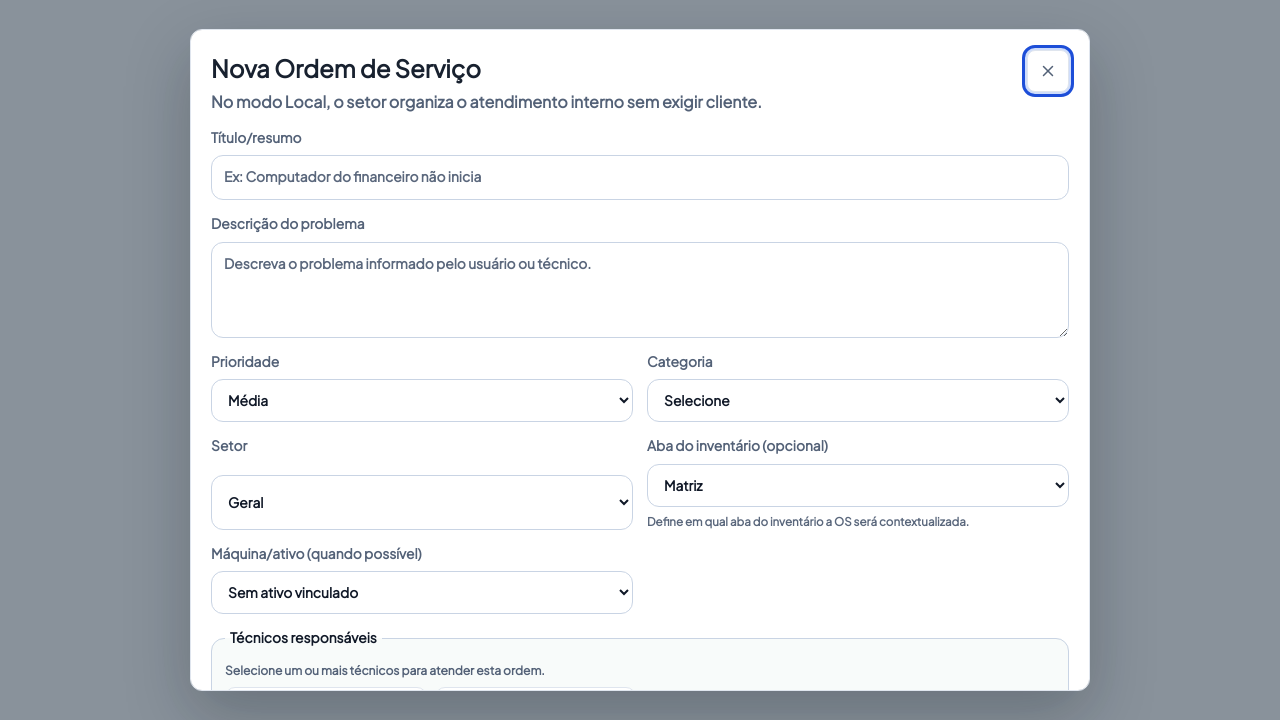
ServiceOrderFormModal › valida os campos obrigatórios do modo Local
Type "Ab" into the field labelled "Título/resumo". click: (640, 178)
box: [211,155,1069,200]
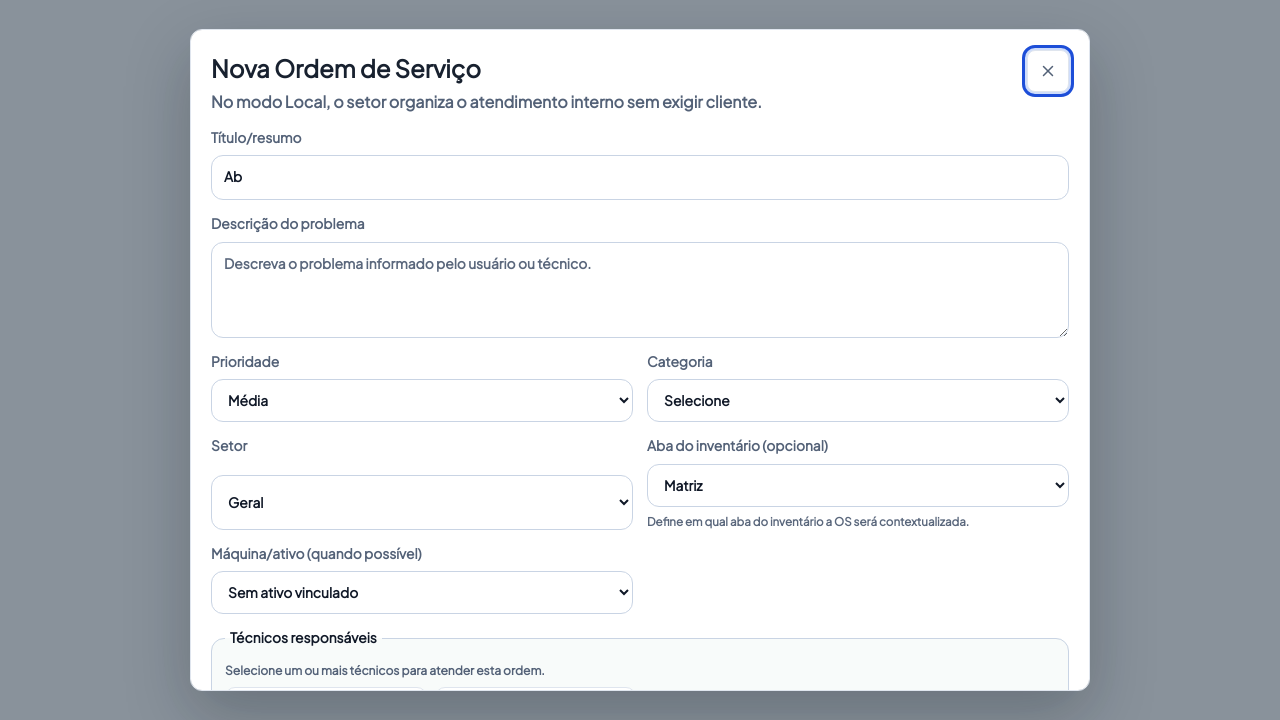
Replace the text in the field labelled "Título/resumo" with "  Título ok  ". click: (640, 178)
box: [211,155,1069,200]
(page scrolled)
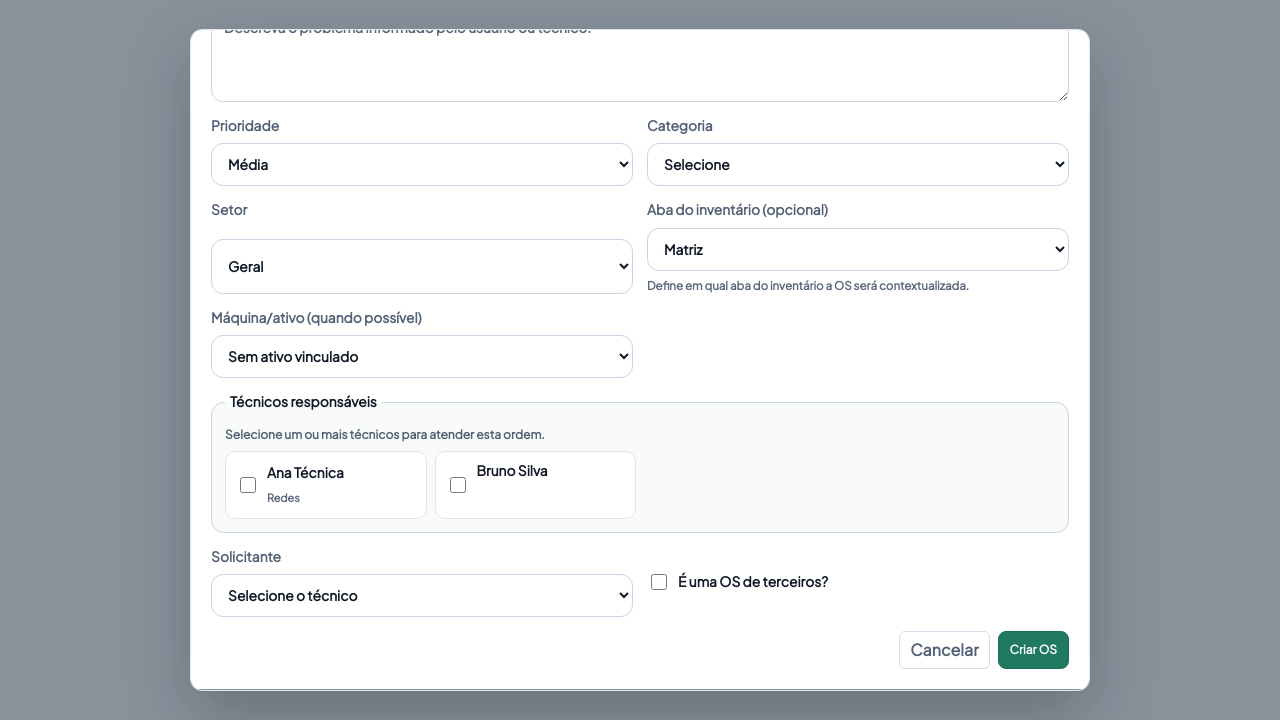
Click the button "Criar OS". click: (1033, 650)
box: [998,631,1069,669]
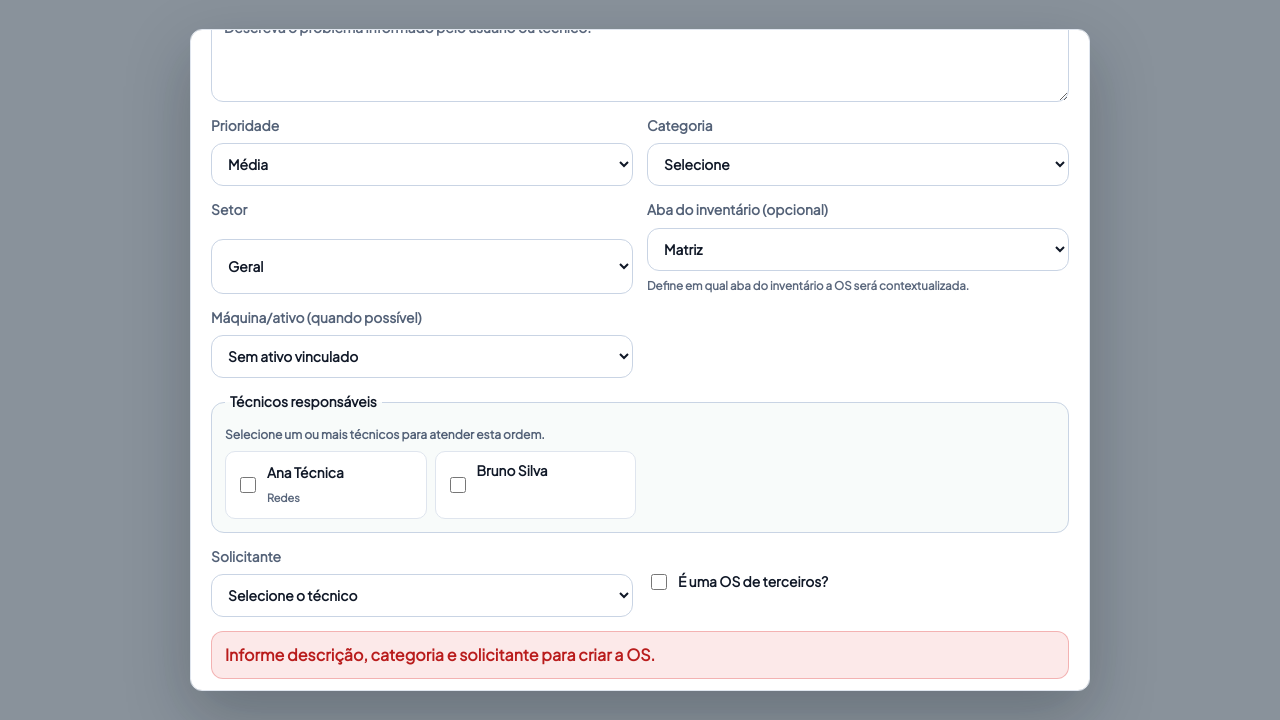
Check: the text with class "service-order-form-error" reads "Informe descrição, categoria e solicitante para criar a OS.", box [225,644,655,665]
Type "Descrição" into the text box labelled "Descrição do problema". click: (640, 54)
box: [211,6,1069,102]
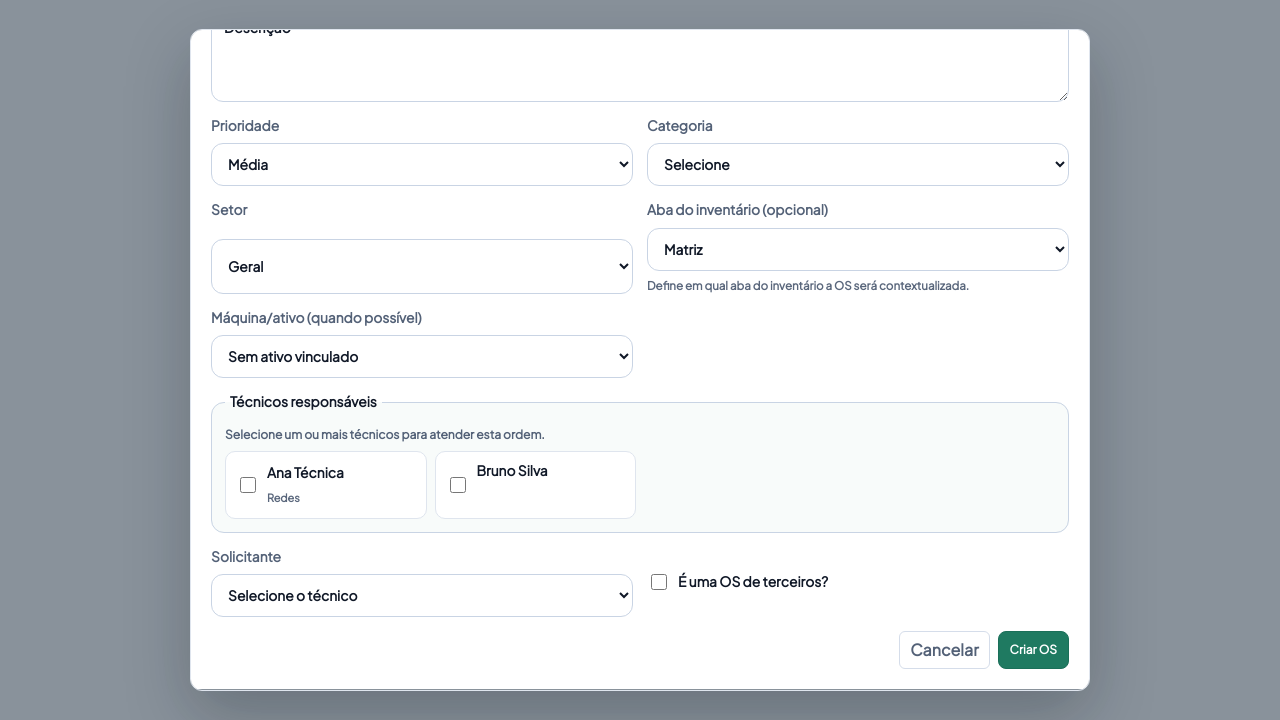
Check: the text with class "service-order-form-error" is gone
Click the button "Criar OS". click: (1033, 650)
box: [998,631,1069,669]
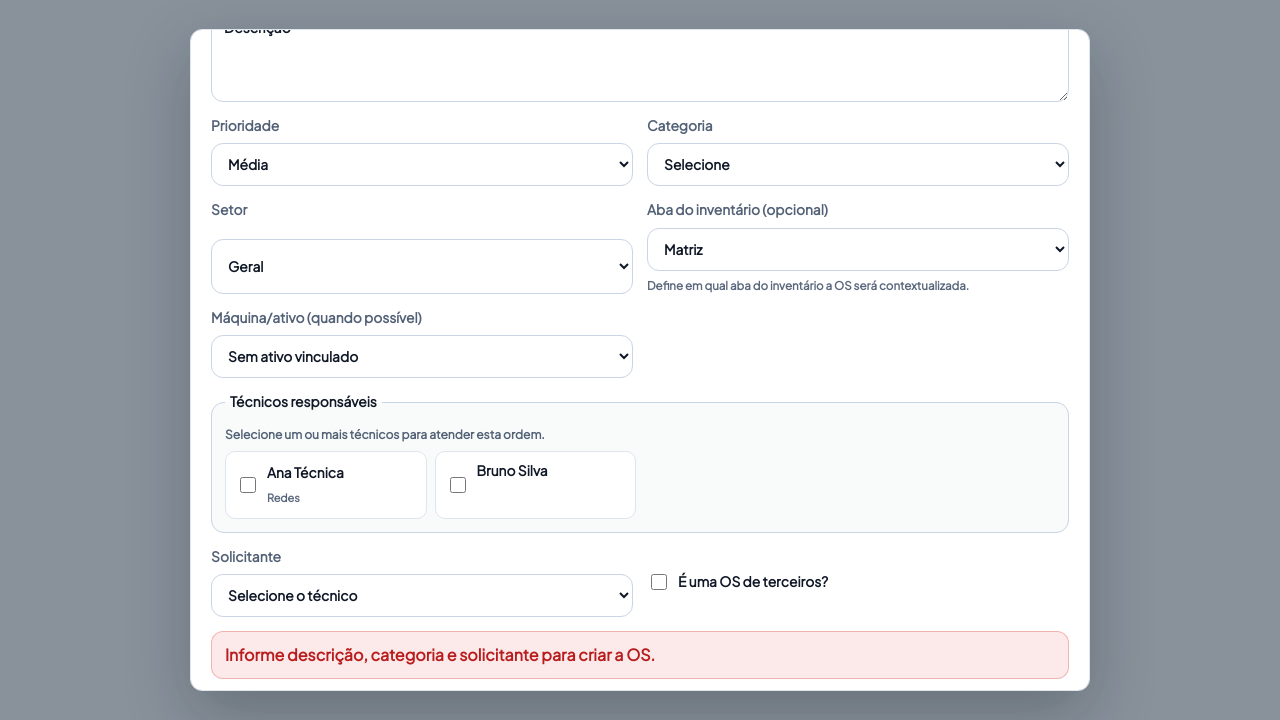
Check: the text with class "service-order-form-error" reads "Informe descrição, categoria e solicitante para criar a OS.", box [225,644,655,665]
